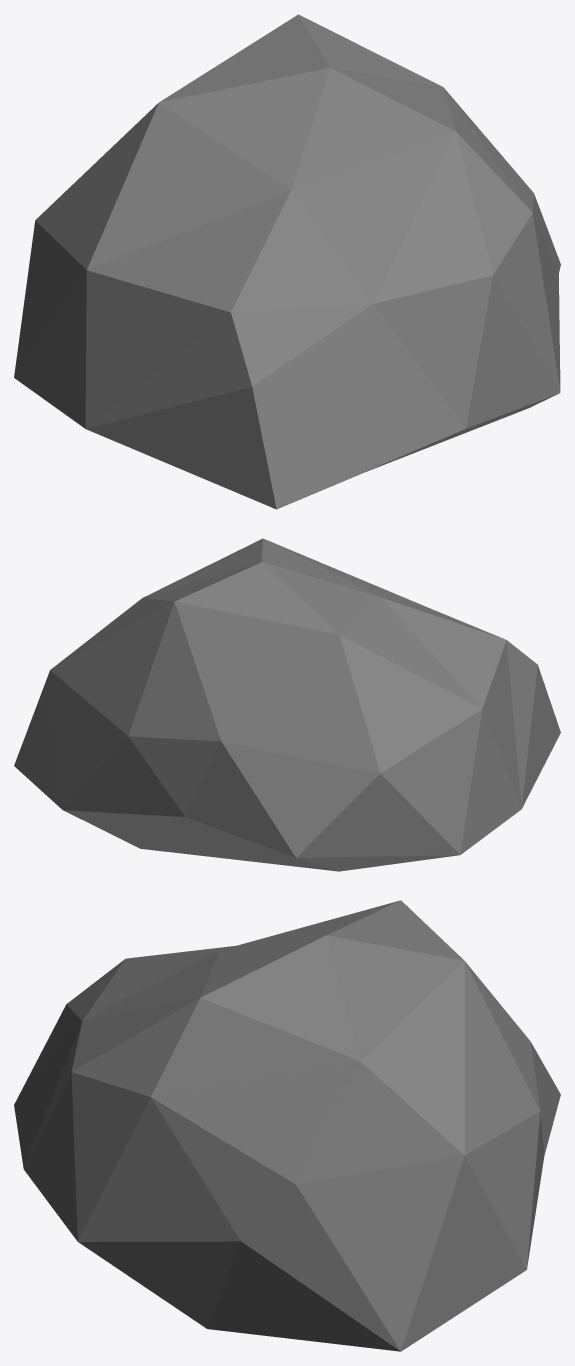
Rendered from stone01.gltf.
The picture shows the model from 3 angles, top to bottom: view 1: azimuth 30°, elevation 25°; view 2: azimuth 150°, elevation 25°; view 3: azimuth 270°, elevation 25°; orthographic projection. The views are drawn at different scales.
Parts seen in each view (by area): view 1: Icosphere; view 2: Icosphere; view 3: Icosphere.
Boxes of the visible parts, x1,y1,x2,y2 form: Icosphere: (14, 14, 560, 509); Icosphere: (14, 538, 560, 871); Icosphere: (14, 900, 560, 1351).
Size of the model in its own units: 0.4722 by 0.2907 by 0.4102.
Materials: 1 (1 with a texture image).
